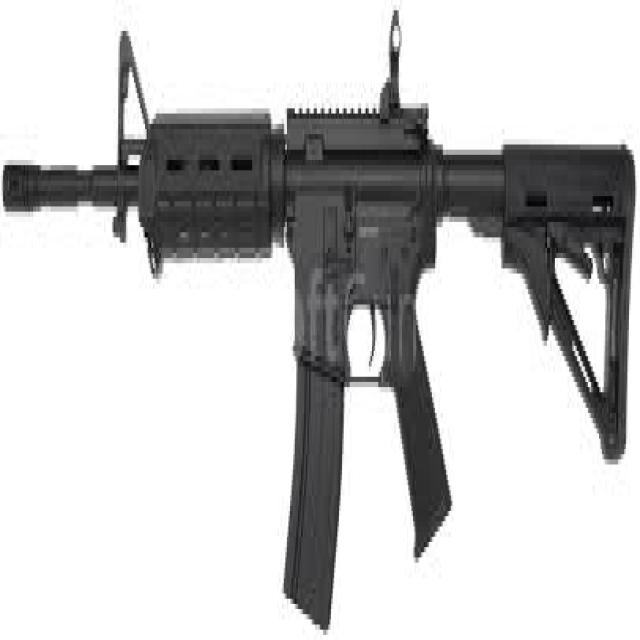rifle: (1, 1, 638, 636)
